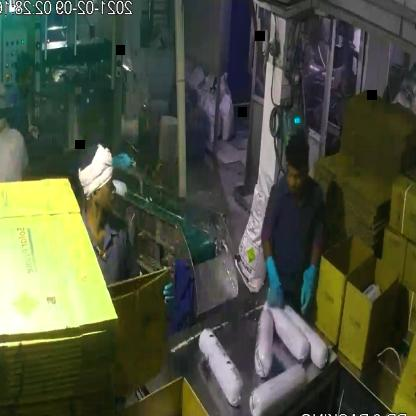glove: (297, 259, 324, 325), (262, 250, 286, 314)
